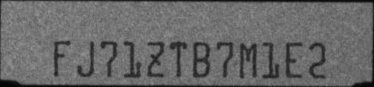1: (122, 40, 142, 77), (262, 40, 279, 79)
2: (308, 41, 327, 78)
7: (216, 41, 234, 78), (99, 40, 116, 77)
B: (192, 41, 210, 77)
E: (284, 41, 304, 78)
F: (53, 40, 72, 77)
J: (76, 41, 95, 76)
M: (238, 41, 257, 78)
T: (168, 40, 187, 76)
Z: (147, 40, 166, 78)
